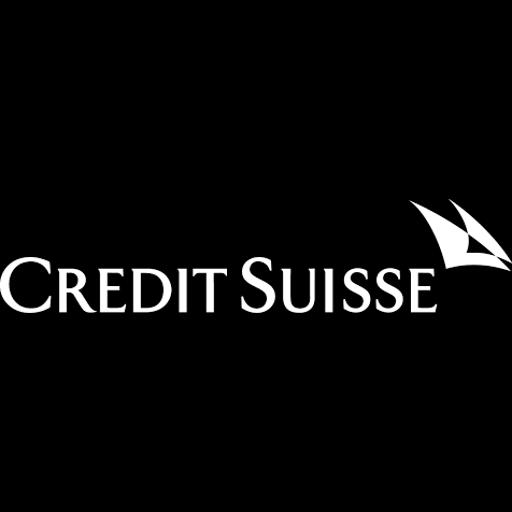Credit Suisse AG: (0, 199, 512, 313)
